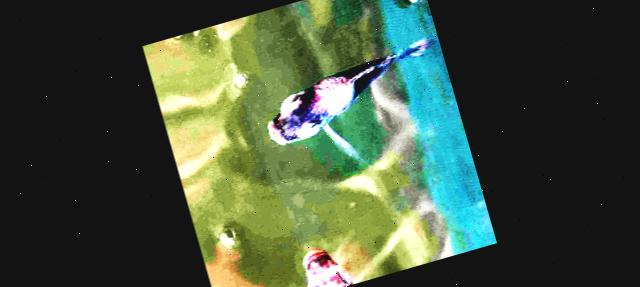Columnaris Disease: (268, 37, 427, 155), (303, 247, 355, 287)
